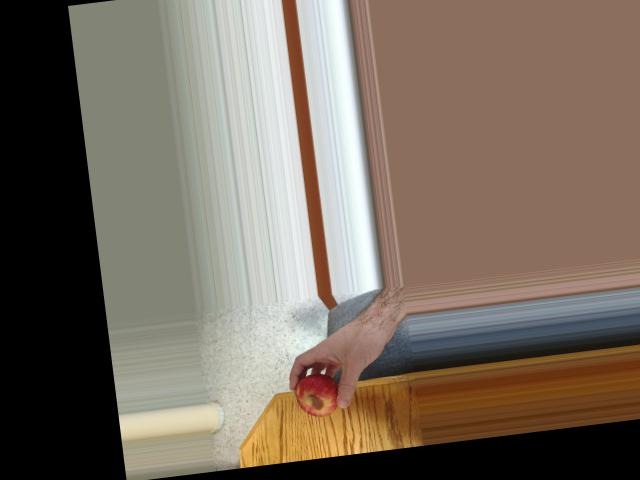apple: (291, 366, 346, 418)
